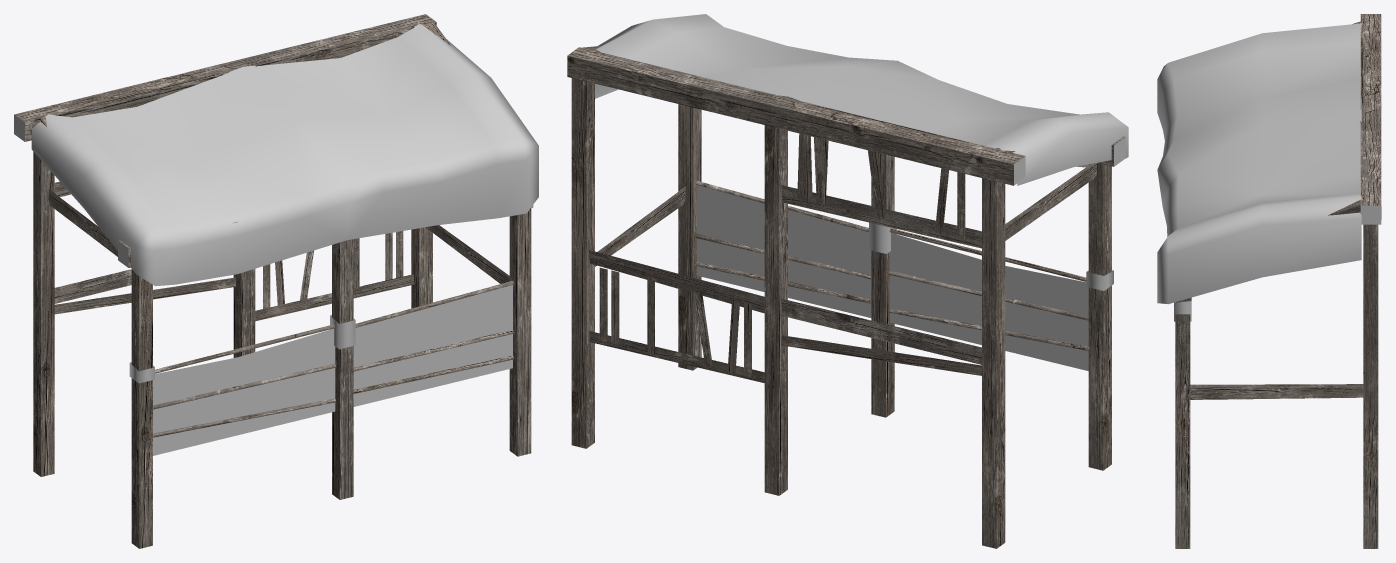
Rendered from Stall2_LOD1.fbx.
The picture shows the model from 3 angles, left to right: view 1: azimuth 30°, elevation 25°; view 2: azimuth 150°, elevation 25°; view 3: azimuth 270°, elevation 25°; orthographic projection. The views are drawn at different scales.
Visible parts, largest first — view 1: polySurface2933; view 2: polySurface2933; view 3: polySurface2933.
Part boxes in pixels (x1,y1,x2,y2): polySurface2933: (14,14,538,548); polySurface2933: (567,14,1128,548); polySurface2933: (1157,14,1381,548).
Bounding box in the file's own units: 5.48 × 4.57 × 2.68.
